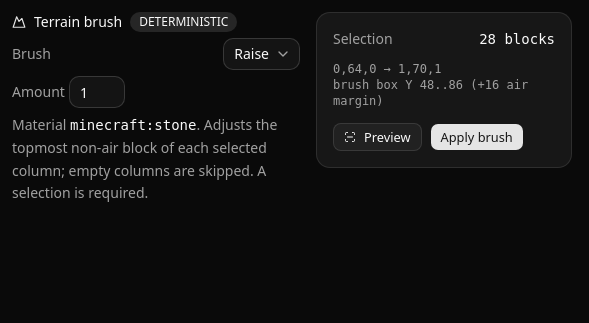
Test: terrain brush panel › previews the selected brush without writing
Click the button with aria-label "Preview terrain brush" at (377, 137), box [333, 123, 422, 151]
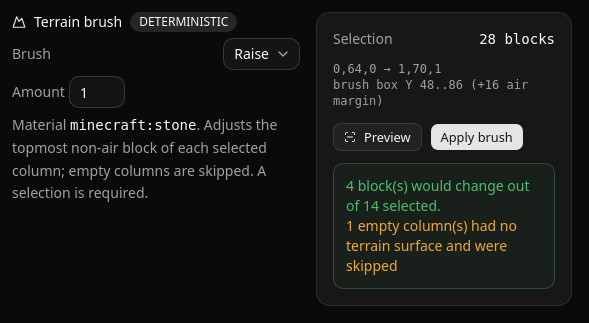
Check: the element with test id "terrain-preview" shows "4 block(s) would change out of 14 selected.", box [333, 163, 555, 289]
Check: the element with test id "terrain-preview" shows "1 empty column", box [346, 216, 517, 275]
